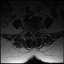CCS_normal: (32, 31, 34, 38)
LFS_severe_stenosis: (36, 29, 37, 33)
LLS_normal: (34, 30, 36, 36)
RFS_stenosis: (29, 29, 31, 34)
RLS_normal: (30, 30, 32, 36)
